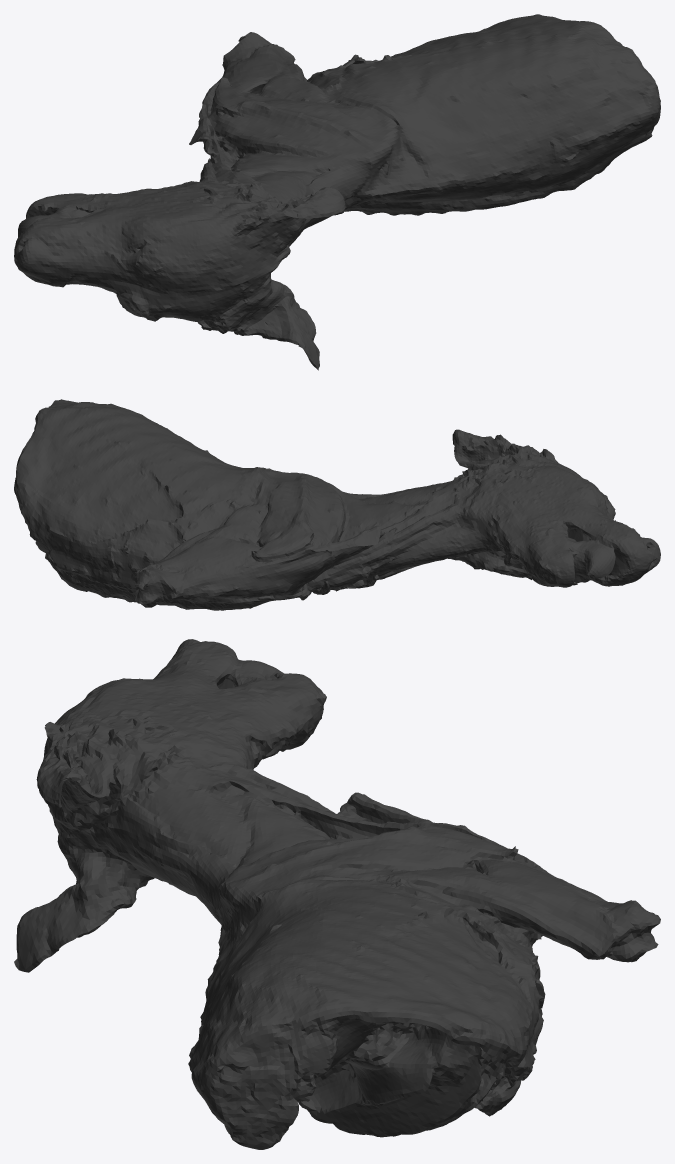
Rendered from retopo_canine_hemisection_001_uv_001.glb.
The picture shows the model from 3 angles, top to bottom: view 1: azimuth 30°, elevation 25°; view 2: azimuth 150°, elevation 25°; view 3: azimuth 270°, elevation 25°; orthographic projection. The views are drawn at different scales.
Visible parts, largest first — view 1: retopo_canine_hemisection_001_uv_001; view 2: retopo_canine_hemisection_001_uv_001; view 3: retopo_canine_hemisection_001_uv_001.
Part boxes in pixels (x1,y1,x2,y2): retopo_canine_hemisection_001_uv_001: (14, 14, 660, 370); retopo_canine_hemisection_001_uv_001: (14, 399, 660, 610); retopo_canine_hemisection_001_uv_001: (14, 639, 660, 1149).
Size of the model in its own units: 0.0134 by 0.00333 by 0.00856.
Materials: 1 (1 with a texture image).
